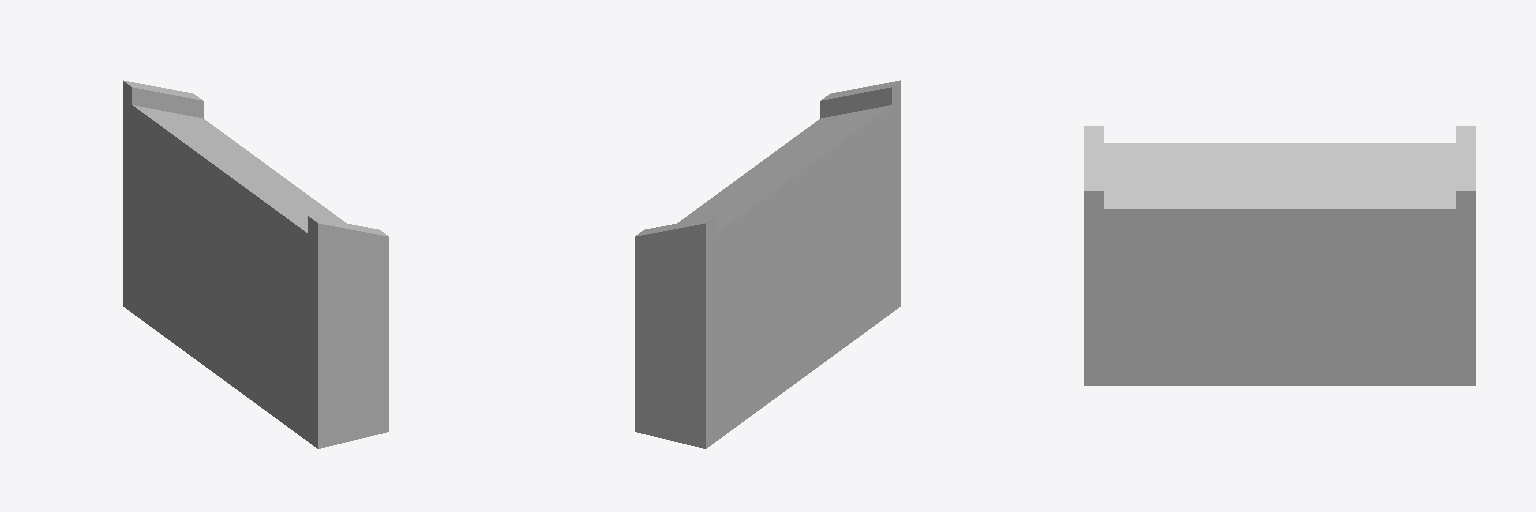
File: ramp_22 5 .obj
3 renders of one model, left to right at view 1: azimuth 30°, elevation 25°; view 2: azimuth 150°, elevation 25°; view 3: azimuth 270°, elevation 25°, orthographic.
Parts seen in each view (by area): view 1: 22.5_ramp_Plane.012, 22.5_ramp.001_Plane.001; view 2: 22.5_ramp_Plane.012, 22.5_ramp.001_Plane.001; view 3: 22.5_ramp_Plane.012, 22.5_ramp.001_Plane.001.
Boxes of the visible parts, x1,y1,x2,y2 form: 22.5_ramp_Plane.012: [123, 80, 388, 448]; 22.5_ramp.001_Plane.001: [133, 105, 345, 232]; 22.5_ramp_Plane.012: [635, 80, 900, 448]; 22.5_ramp.001_Plane.001: [678, 105, 890, 232]; 22.5_ramp_Plane.012: [1084, 126, 1475, 385]; 22.5_ramp.001_Plane.001: [1104, 143, 1455, 208].
Bounding box in the file's own units: 2.53 × 7.65 × 12.